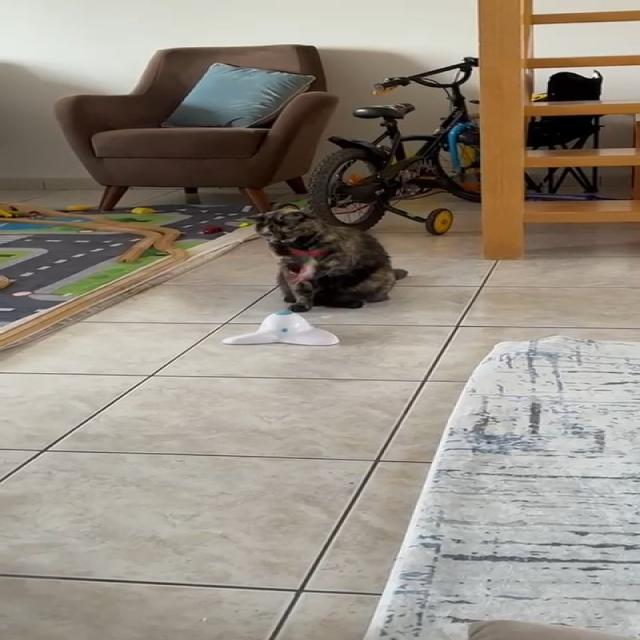authorized: (245, 201, 408, 312)
